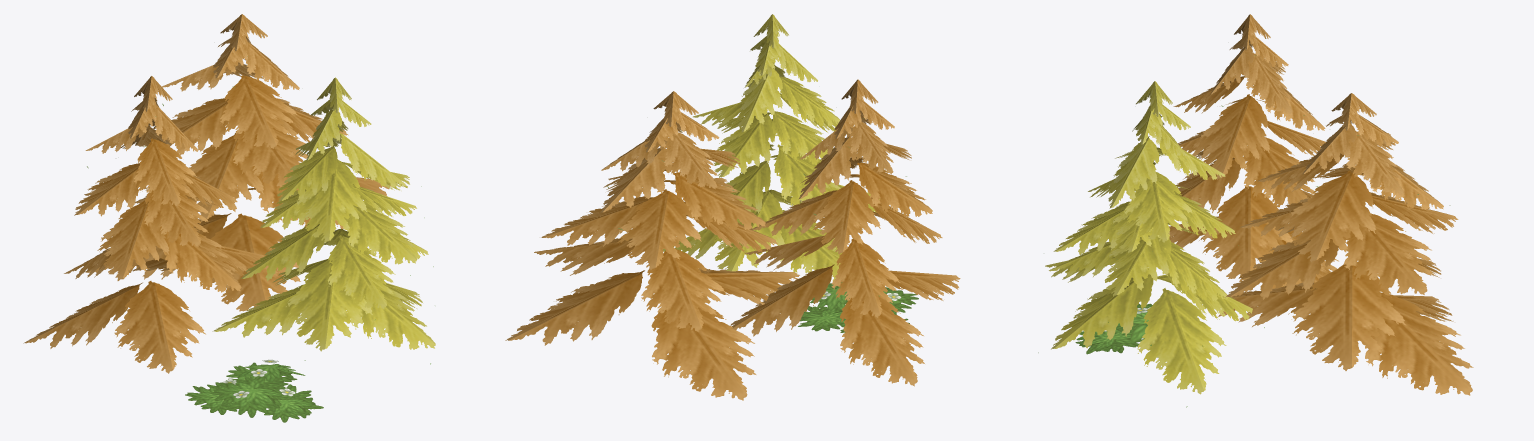
The model's file is area_06_38.fbx.
3 views of the same model, side by side, from view 1: azimuth 30°, elevation 25°; view 2: azimuth 150°, elevation 25°; view 3: azimuth 270°, elevation 25° (orthographic). The views are drawn at different scales.
Parts seen in each view (by area): view 1: area_06_38; view 2: area_06_38; view 3: area_06_38.
Boxes of the visible parts, bbox=[...] form: area_06_38: bbox=[23, 14, 435, 422]; area_06_38: bbox=[505, 14, 960, 400]; area_06_38: bbox=[1038, 14, 1473, 407].
Bounding box in the file's own units: 9.29 × 6.37 × 9.71.
